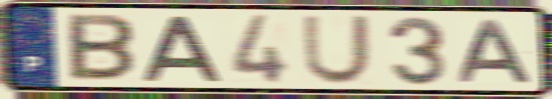3: (386, 14, 447, 87)
4: (228, 12, 292, 86)
A: (139, 14, 226, 84), (456, 18, 537, 86)
B: (65, 11, 138, 84)
U: (300, 13, 373, 86)
